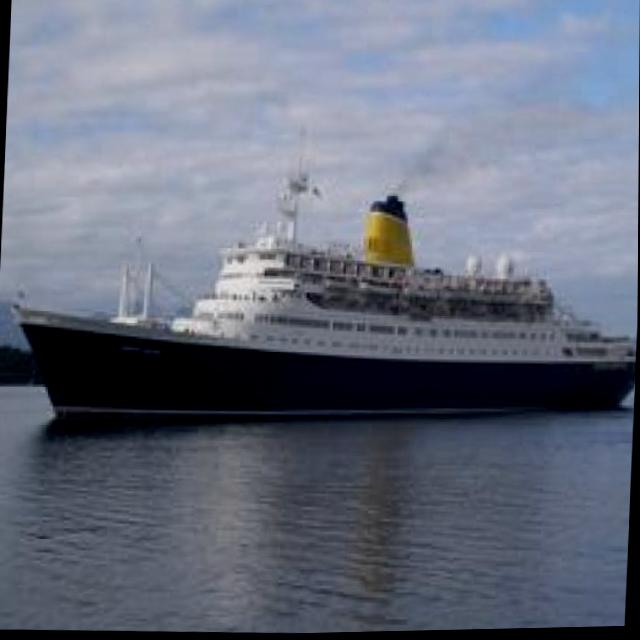ship2: (14, 174, 637, 426)
